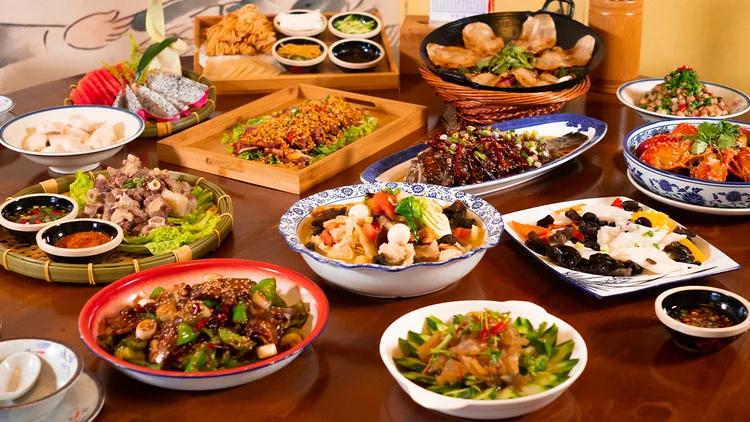Braised Crucian Carp: (76, 259, 322, 390), (159, 82, 408, 198), (0, 166, 235, 277), (497, 194, 736, 299), (379, 297, 583, 419), (279, 181, 479, 297), (418, 0, 610, 106), (365, 112, 590, 196), (619, 118, 750, 211), (0, 104, 145, 175), (615, 66, 750, 128)
